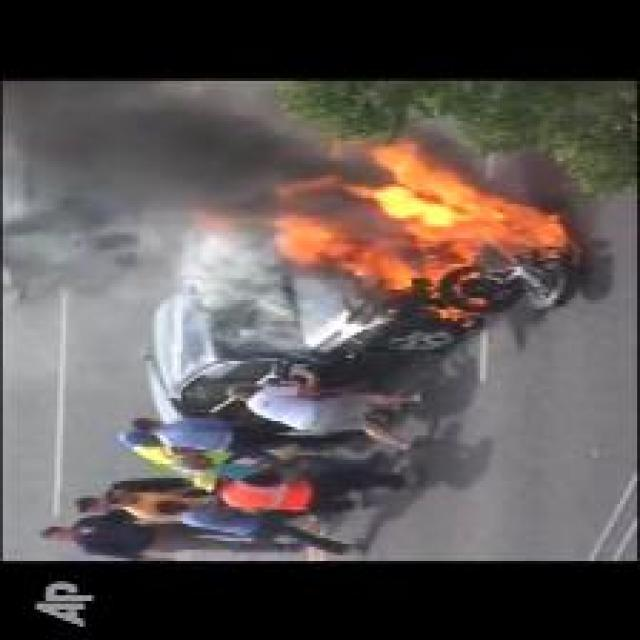Fire: (195, 143, 574, 294)
